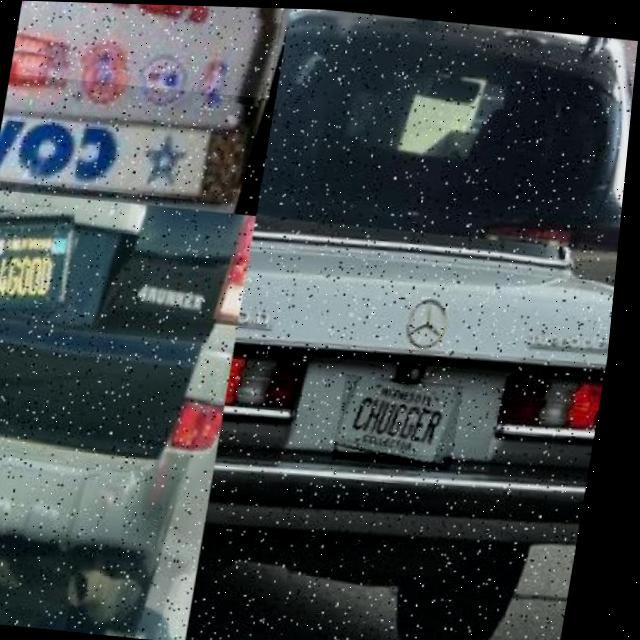LicensePlate: (9, 0, 282, 97), (343, 374, 469, 466), (0, 200, 92, 319)
